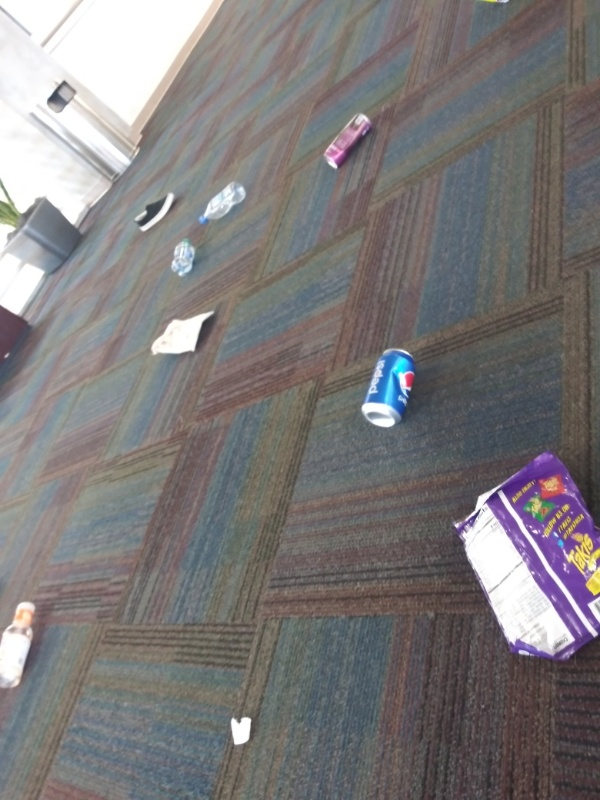bag: (448, 447, 600, 674), (147, 306, 219, 359)
bottle: (1, 593, 39, 699), (194, 177, 248, 229), (166, 234, 199, 280)
can: (357, 345, 420, 431), (321, 107, 377, 173)
